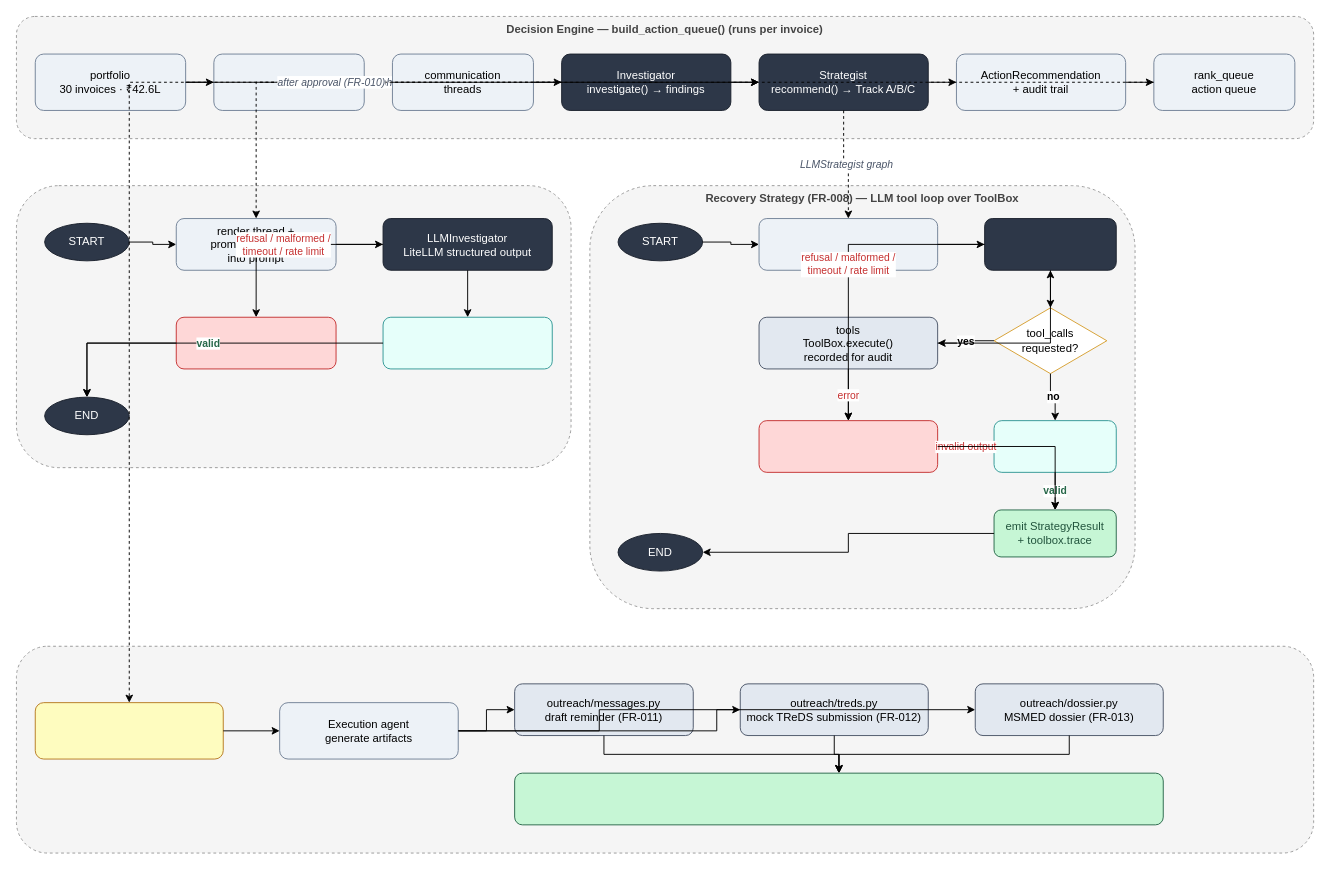
The diagram is 1330 pixels wide and 870 high, and some of its shapes have lost their labels. Here are the shapes that lost their labels. From the top down, the box of each, then its label:
(213, 53, 364, 110): ML: delay probs + cash forecast
(758, 218, 938, 270): build_context StrategyContext + promise_reliability → prompt
(984, 218, 1116, 270): agent LiteLLM bound to TOOL_SCHEMAS
(175, 316, 336, 369): fallback RuleBasedInvestigator
(16, 185, 571, 468): Receivables Investigator (FR-007) — single structured-output call
(382, 316, 552, 369): validate Pydantic: InvestigatorFindings
(758, 420, 938, 472): fallback RuleBasedStrategist
(993, 420, 1116, 472): validate Pydantic: StrategyRecommendation
(34, 702, 223, 759): HUMAN approval PENDING_APPROVAL → APPROVED
(16, 645, 1314, 853): Execution (FR-011/012/013) — Phase 4, post-approval, not built yet (#15)
(514, 772, 1163, 825): audit trail decided_by = HUMAN / GENERATED
